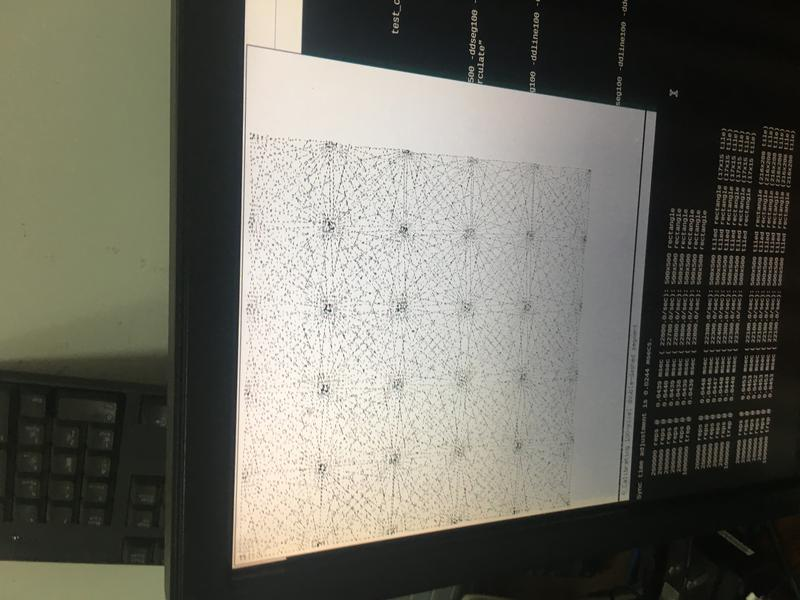xrandr_pass: (224, 35, 664, 572)
